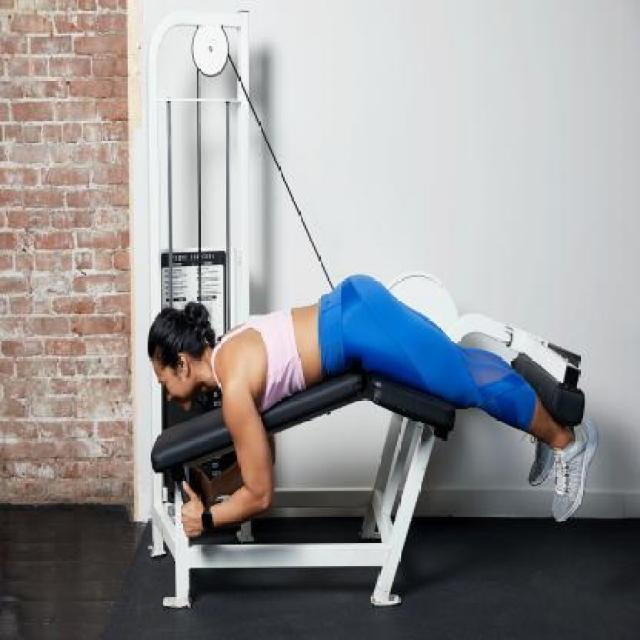reg curl machine: (134, 4, 620, 614)
